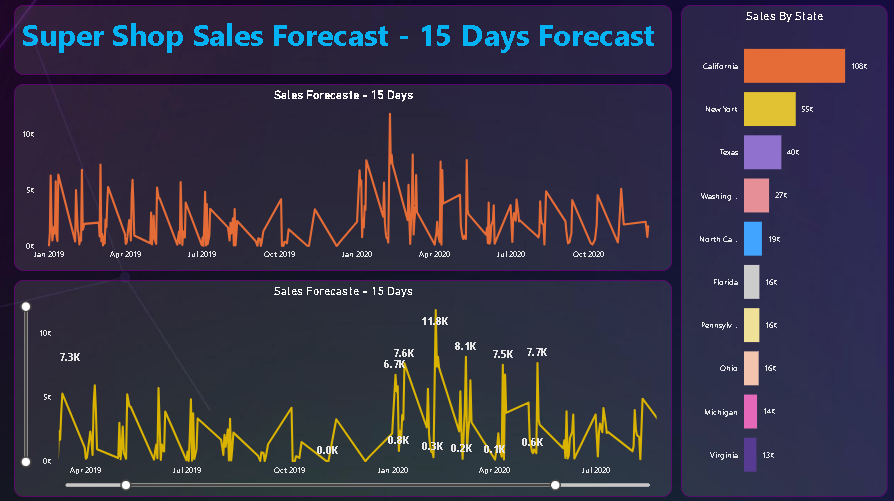

The dashboard page shown, as its layout file describes it:
{"tool":"powerbi","page":{"name":"Page 2","canvas":[1280,720],"ordinal":1},"visuals":[{"type":"lineChart","title":"Sales Forecaste - 15 Days","fields":{"Y":["Sum(SuperStore_Sales_Dataset.Sales)"],"Category":["SuperStore_Sales_Dataset.Order Date"]},"box":[20,121.7,940,266.7],"z":0},{"type":"lineChart","title":"Sales Forecaste - 15 Days","fields":{"Y":["Sum(SuperStore_Sales_Dataset.Sales)"],"Category":["SuperStore_Sales_Dataset.Order Date"]},"box":[20,401.7,940,310],"z":1000},{"type":"barChart","title":"Sales By State","fields":{"Category":["SuperStore_Sales_Dataset.State"],"Y":["Sum(SuperStore_Sales_Dataset.Sales)"]},"box":[973.3,8.3,295,703.3],"z":2000},{"type":"textbox","box":[20,8.3,940,100],"z":3000}]}

Visuals, with their boxes in screenshot pixels (x1, y1, x2, y2), scaled from the page's 1280x720 canvas onto the 894x501 screenshot:
"Sales Forecaste - 15 Days" lineChart: (14, 85, 670, 270)
"Sales Forecaste - 15 Days" lineChart: (14, 280, 670, 495)
"Sales By State" barChart: (680, 6, 886, 495)
textbox: (14, 6, 670, 75)
